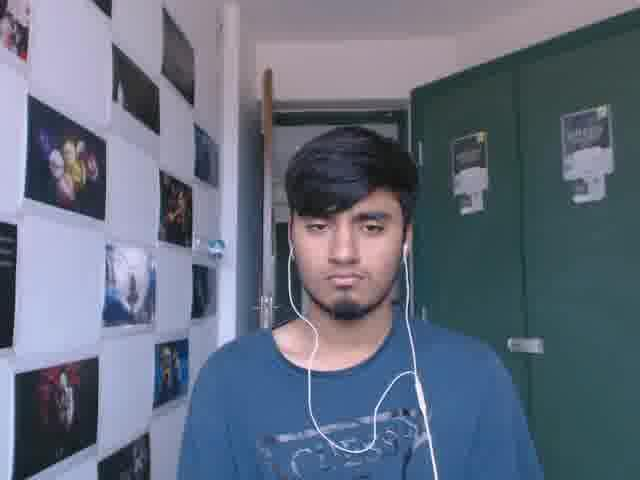bosan: (293, 181, 399, 313)
